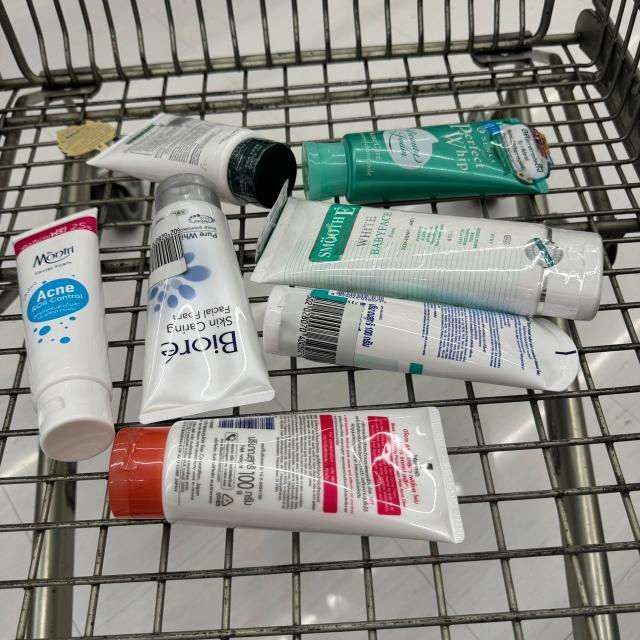Squeeze Tube: (102, 401, 470, 545), (256, 196, 606, 323), (264, 283, 586, 398), (143, 171, 287, 424), (18, 210, 116, 461), (86, 103, 292, 212), (302, 113, 554, 199)
